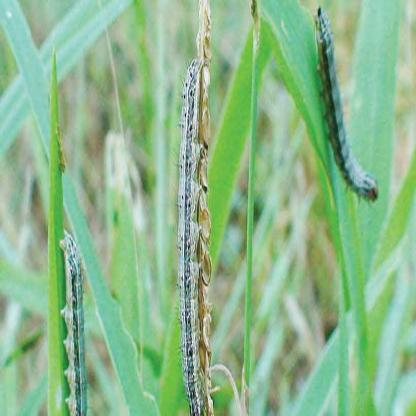armyworm: (176, 49, 216, 416), (310, 5, 382, 206), (56, 225, 92, 416)
